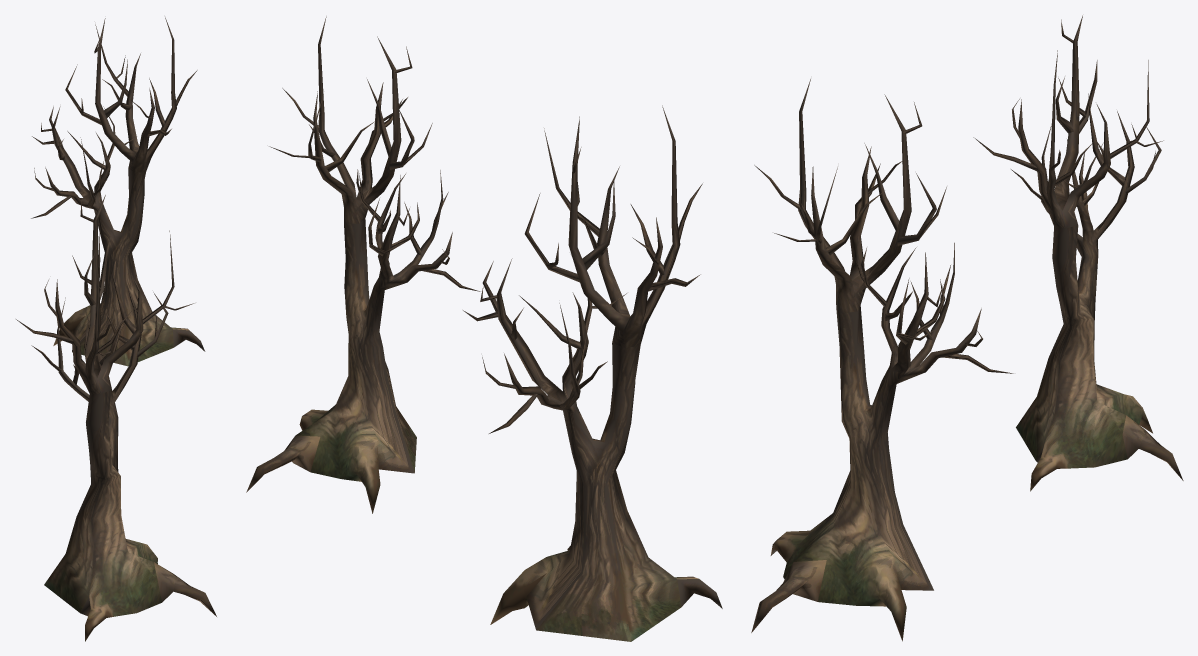
File: plants_tall_tree_trunks02.fbx
3 views of the same model, side by side, from view 1: azimuth 30°, elevation 25°; view 2: azimuth 150°, elevation 25°; view 3: azimuth 270°, elevation 25° (orthographic). The views are drawn at different scales.
Visible parts, largest first — view 1: Material_#238683193/fancy_tree; view 2: Material_#238683193/fancy_tree; view 3: Material_#238683193/fancy_tree.
Part boxes in pixels (x1,y1,x2,y2): Material_#238683193/fancy_tree: [16, 17, 216, 641]; Material_#238683193/fancy_tree: [246, 16, 722, 641]; Material_#238683193/fancy_tree: [751, 15, 1183, 641].
Bounding box in the file's own units: 5.83 × 11.05 × 6.79.
